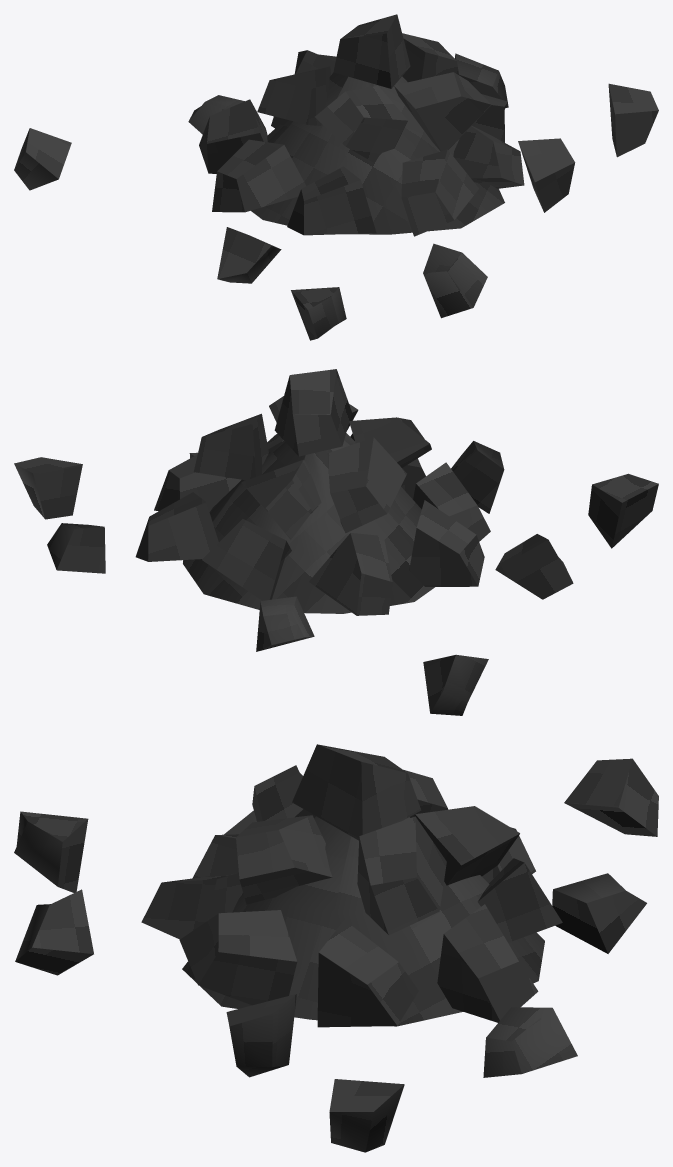
Rendered from ammomaker_CharcoalPowder.fbx.
3 renders of one model, top to bottom at view 1: azimuth 30°, elevation 25°; view 2: azimuth 150°, elevation 25°; view 3: azimuth 270°, elevation 25°, orthographic. The views are drawn at different scales.
Visible parts, largest first — view 1: ammomaker_CharcoalPowder; view 2: ammomaker_CharcoalPowder; view 3: ammomaker_CharcoalPowder.
Part boxes in pixels (x1=…): ammomaker_CharcoalPowder: x1=14, y1=14, x2=658, y2=340; ammomaker_CharcoalPowder: x1=14, y1=369, x2=658, y2=715; ammomaker_CharcoalPowder: x1=14, y1=744, x2=658, y2=1152.
Bounding box in the file's own units: 14.49 × 5.15 × 11.57.
